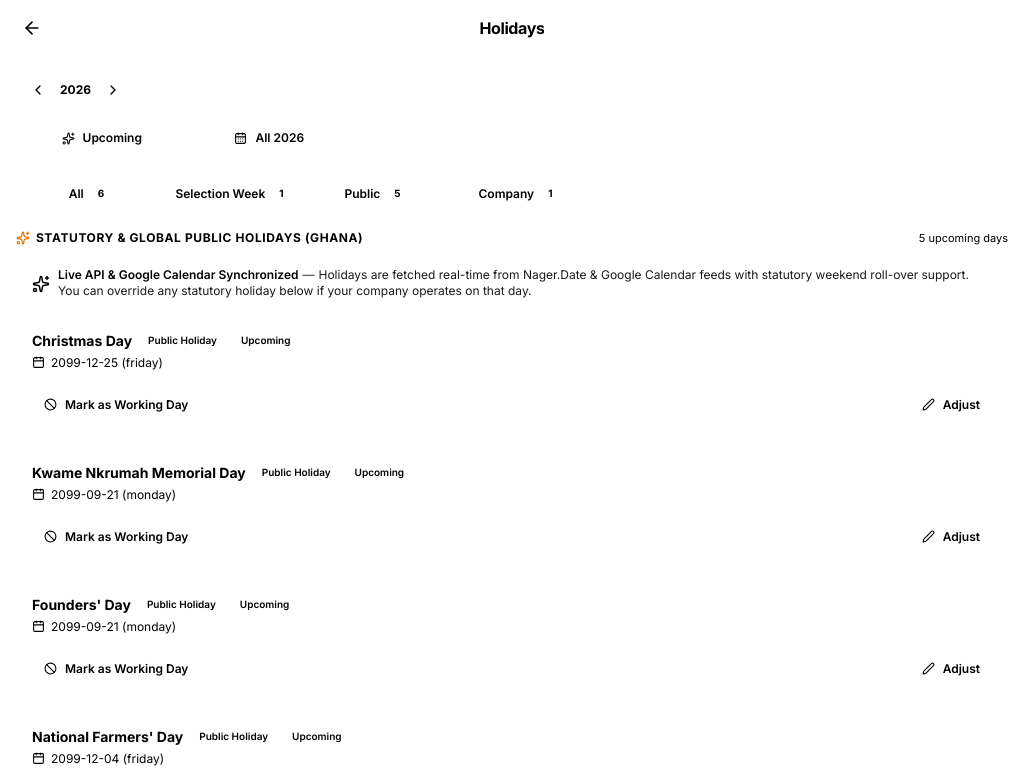
Test: MarkHolidays Page › toggles between Upcoming and All Year scope to display all holidays of the year
Note: Click "All 2026" toggle
Click the button "All 2026" at {"x": 269, "y": 138}, box x1=188 y1=122 x2=351 y2=154
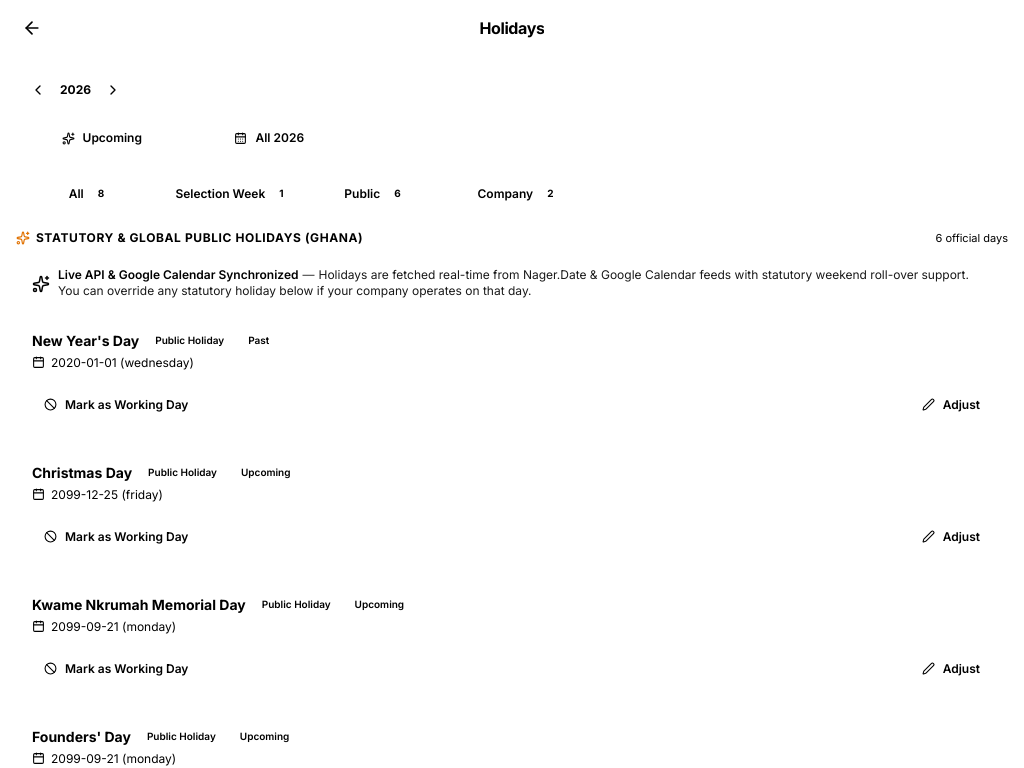
Expected: the heading "Christmas Day" is shown, x1=32 y1=462 x2=132 y2=482
Expected: the heading "New Year's Day" is shown, x1=32 y1=330 x2=139 y2=350
Note: Switch back to Upcoming
Click the button "Upcoming" at {"x": 102, "y": 138}, box x1=20 y1=122 x2=184 y2=154
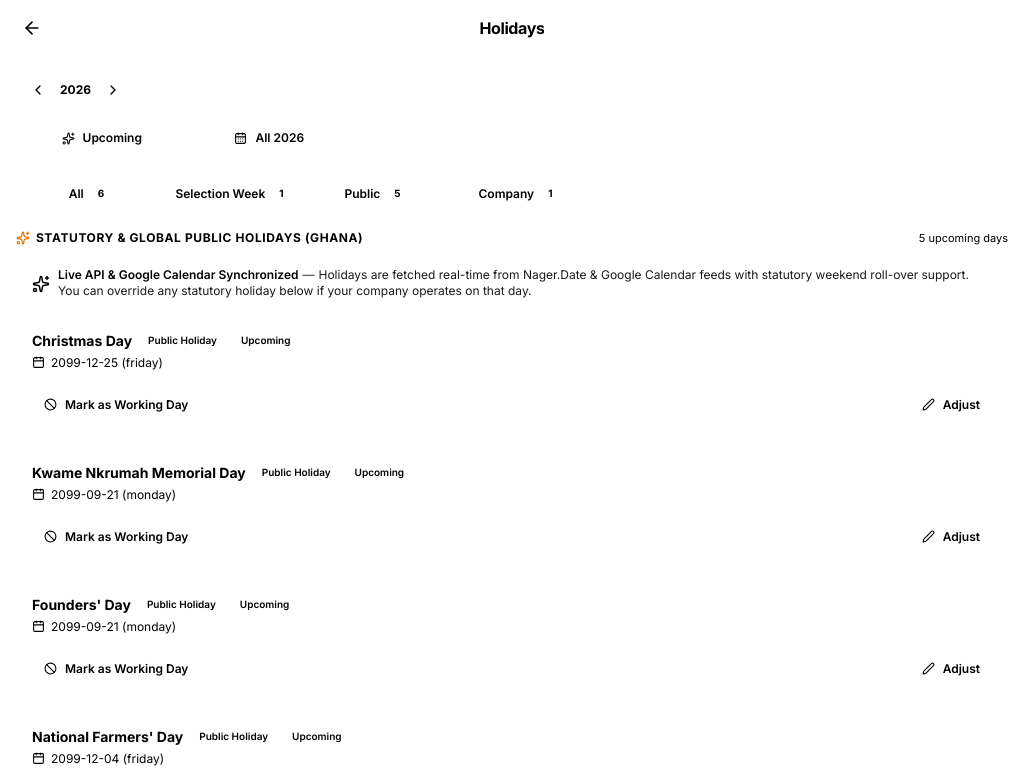
Expected: the heading "Christmas Day" is shown, x1=32 y1=330 x2=132 y2=350
Expected: the heading "New Year's Day" is gone
